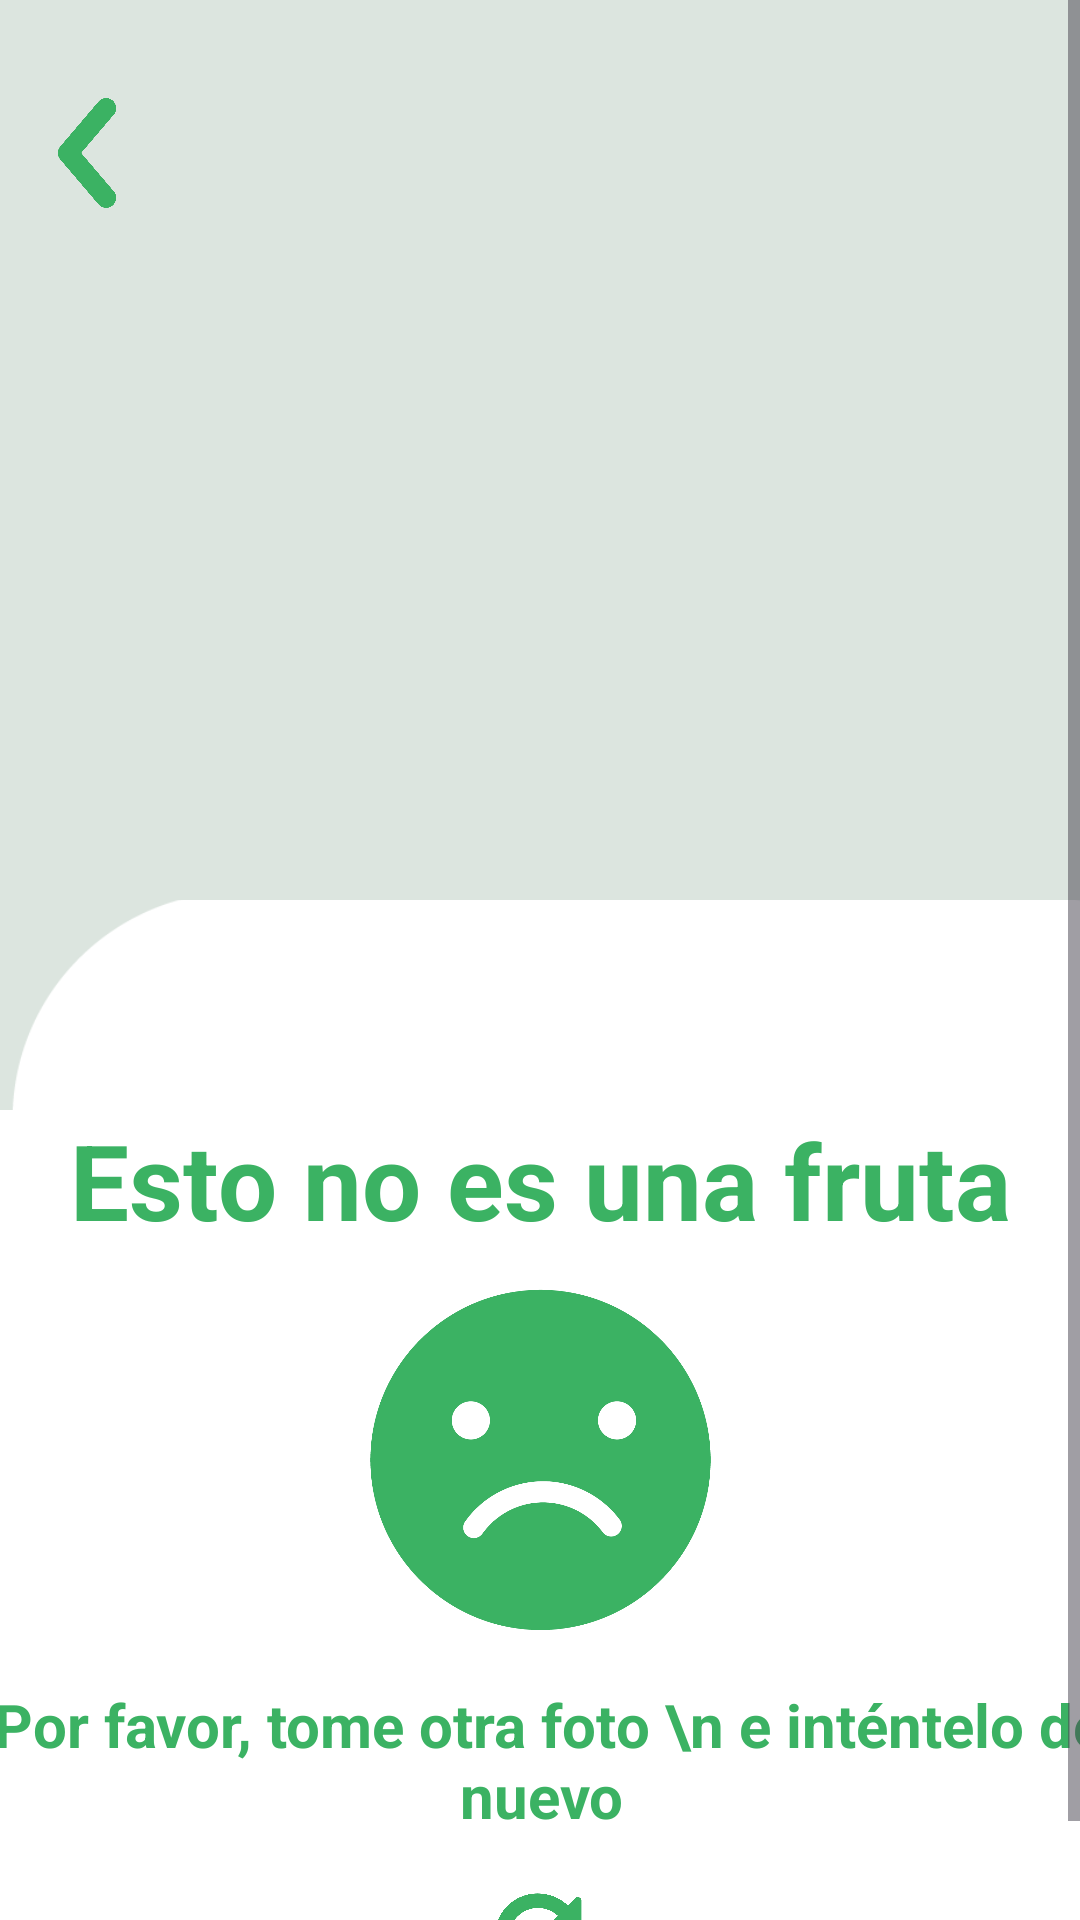

Icons on this 1080×1920 Android screen, each with its box as [x1, y1, x2, y2]:
sad face: [370, 1290, 711, 1630]
Volver: [58, 98, 116, 208]
